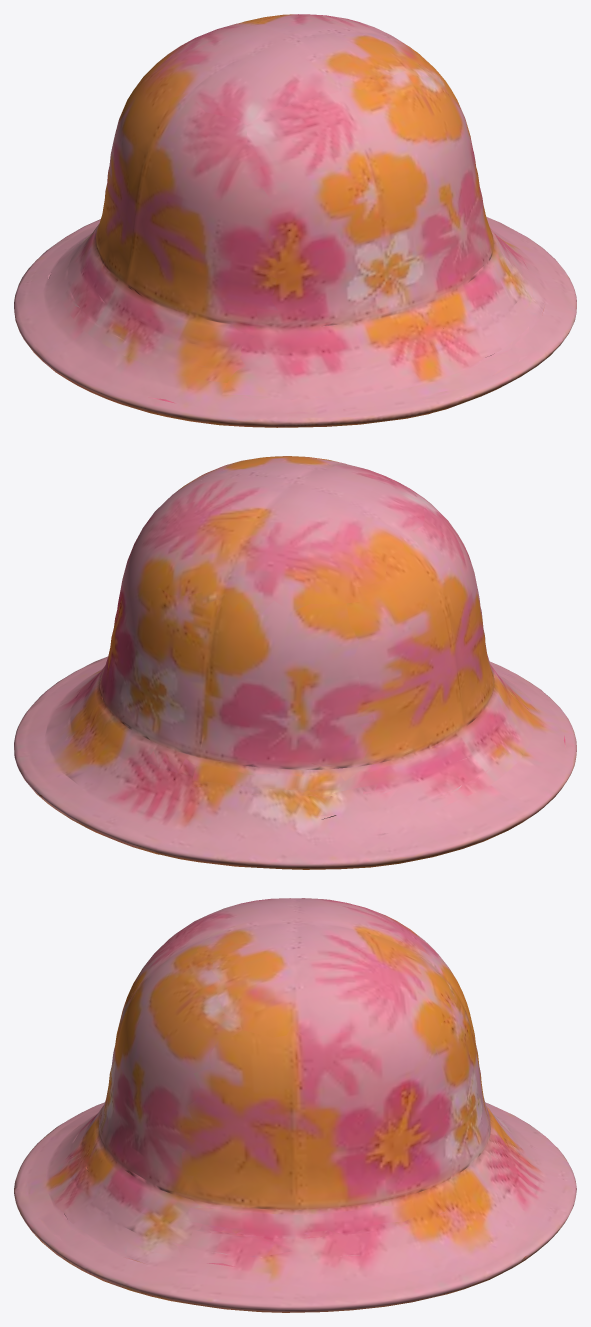
Rendered from bucket.glb.
3 renders of one model, top to bottom at view 1: azimuth 30°, elevation 25°; view 2: azimuth 150°, elevation 25°; view 3: azimuth 270°, elevation 25°, orthographic.
Visible parts, largest first — view 1: node_0; view 2: node_0; view 3: node_0.
Boxes of the visible parts, left/top/right/bottom form: node_0: left=14, top=14, right=576, bottom=427; node_0: left=14, top=456, right=576, bottom=869; node_0: left=14, top=898, right=576, bottom=1312.
Size of the model in its own units: 0.46 by 0.2504 by 0.4596.
1 material, 1 textured.
